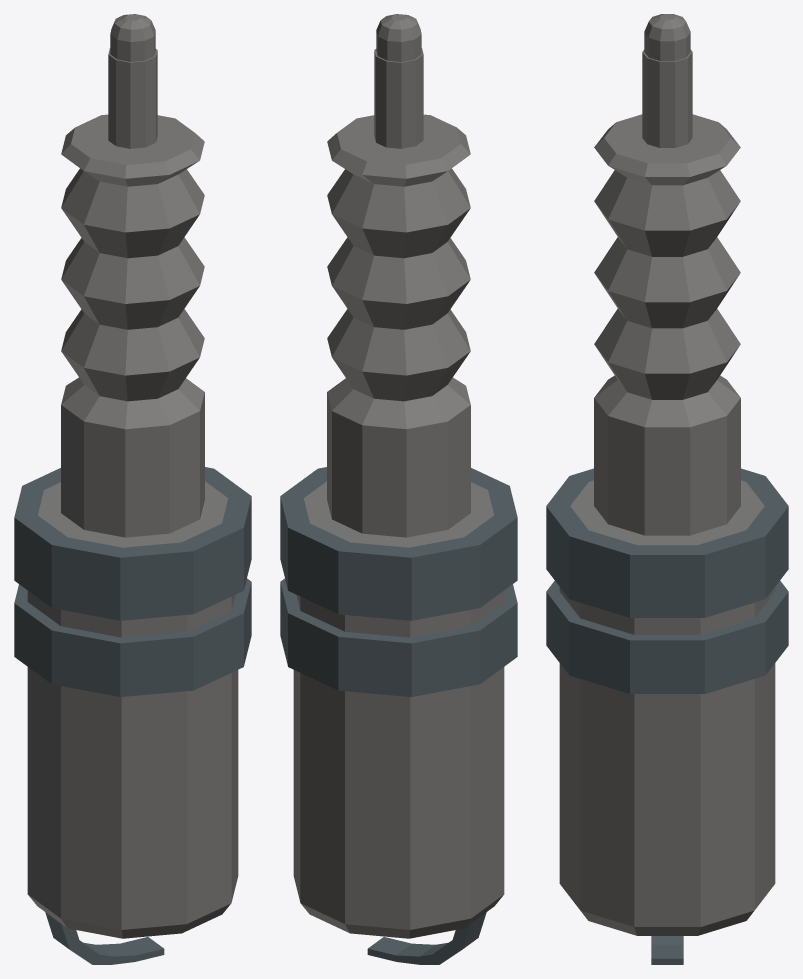
The model's file is SM_CANDLE.glb.
The picture shows the model from 3 angles, left to right: view 1: azimuth 30°, elevation 25°; view 2: azimuth 150°, elevation 25°; view 3: azimuth 270°, elevation 25°; orthographic projection.
Parts seen in each view (by area): view 1: SM_CANDLE; view 2: SM_CANDLE; view 3: SM_CANDLE.
Boxes of the visible parts, box(x1,y1,x2,y2) form: SM_CANDLE: box(14, 14, 251, 964); SM_CANDLE: box(280, 14, 517, 964); SM_CANDLE: box(546, 14, 788, 964).
Bounding box in the file's own units: 0.0239 × 0.1071 × 0.0251.
1 material, 1 textured.
